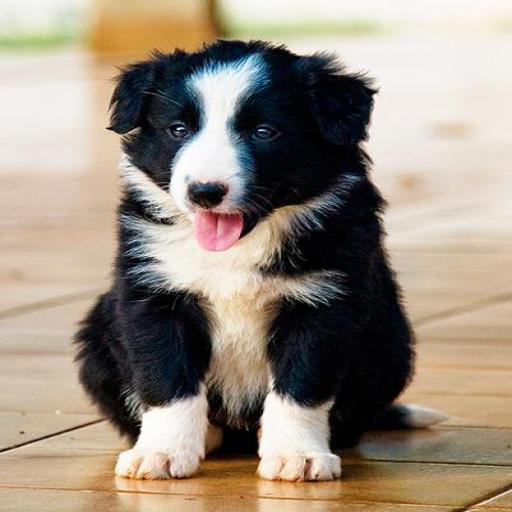dog_face: (104, 36, 372, 250)
